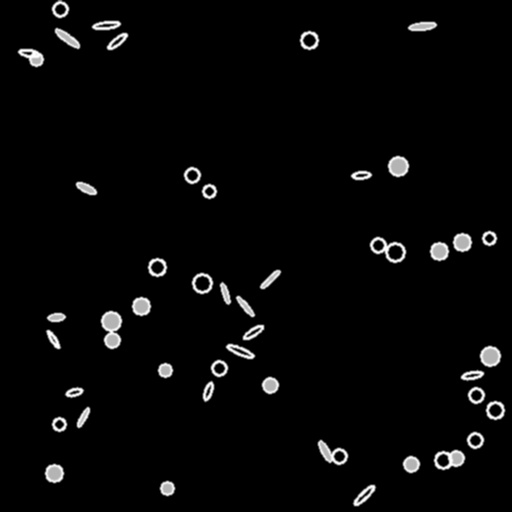pseudomonas: (53, 27, 81, 49), (353, 484, 375, 506), (226, 343, 254, 359), (235, 295, 255, 317), (260, 269, 280, 289), (242, 323, 264, 341), (317, 439, 333, 463), (107, 32, 127, 50), (75, 181, 97, 195), (408, 21, 436, 31), (76, 407, 90, 427), (46, 329, 60, 349), (92, 20, 120, 30), (219, 282, 231, 304), (202, 381, 214, 401), (18, 48, 40, 58), (461, 370, 483, 380), (65, 387, 83, 397), (351, 171, 371, 179), (48, 313, 64, 321)
synechocystis: (102, 312, 120, 330), (386, 243, 404, 261), (389, 157, 407, 175), (481, 347, 499, 365), (193, 274, 211, 292), (431, 243, 447, 259), (454, 234, 470, 250), (46, 465, 62, 481), (435, 452, 451, 468), (133, 298, 149, 314), (487, 402, 503, 418), (301, 32, 317, 48), (149, 259, 165, 275), (185, 168, 199, 182), (332, 449, 346, 463), (263, 378, 277, 392), (404, 457, 418, 471), (449, 451, 463, 465), (469, 388, 483, 402), (468, 433, 482, 447), (371, 238, 385, 252), (212, 361, 226, 375), (53, 2, 67, 16), (105, 333, 119, 347), (53, 418, 65, 430), (483, 232, 495, 244), (203, 185, 215, 197), (161, 482, 173, 494), (159, 364, 171, 376), (30, 53, 42, 65)
